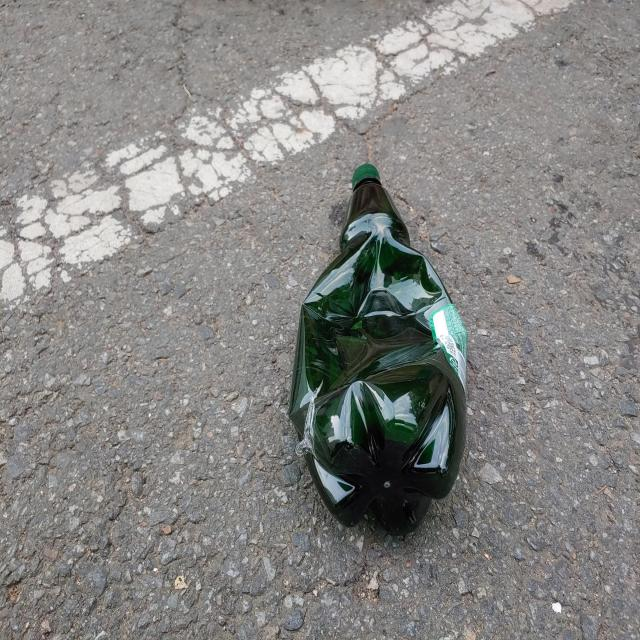plastic: (289, 163, 468, 536)
